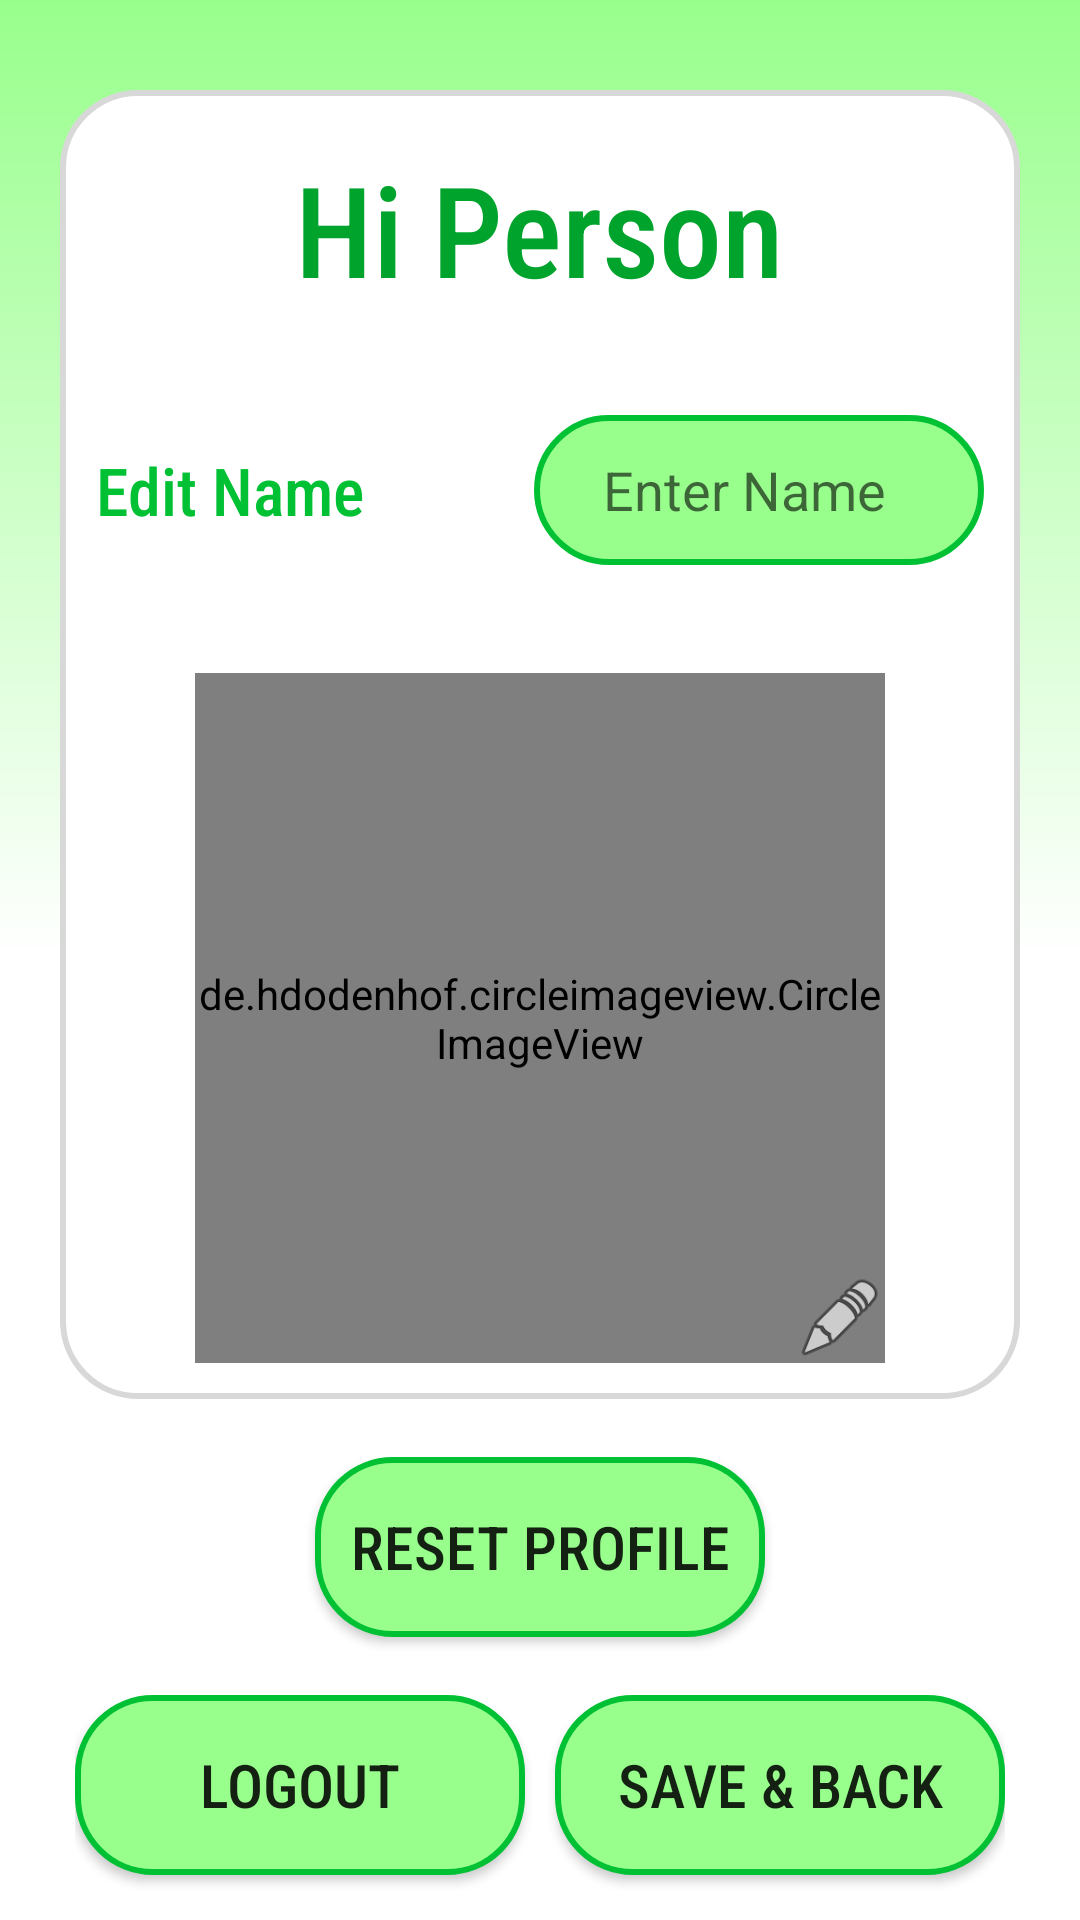

Screen size 1080*1920. Icon name, then its box in pixels as (left=x1, top=y1, right=x2, bottom=y2):
edit: (left=802, top=1280, right=878, bottom=1355)
